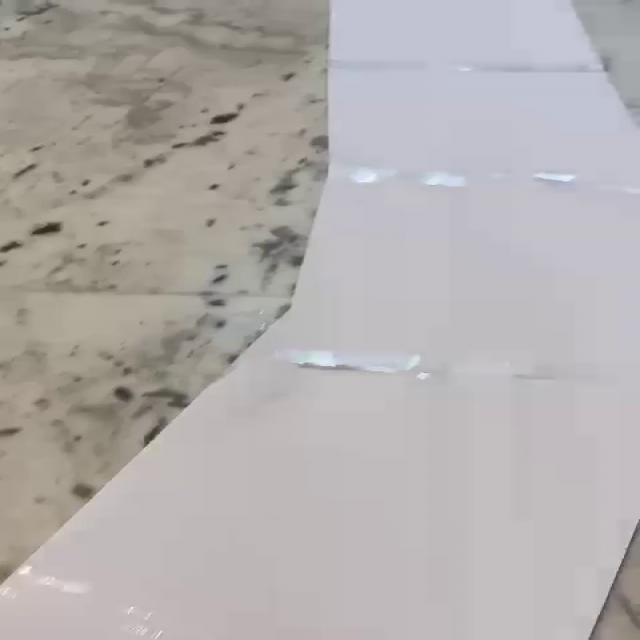road: (0, 0, 640, 640)
